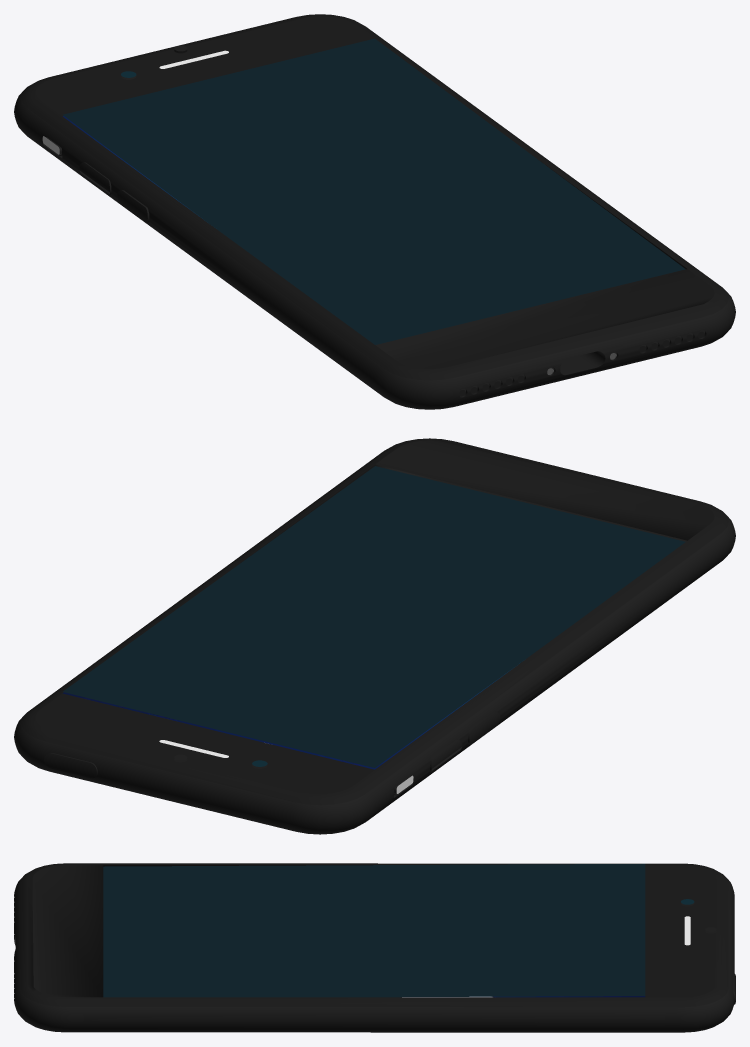
The model's file is iPhone 7-fixed.glb.
3 renders of one model, top to bottom at view 1: azimuth 30°, elevation 25°; view 2: azimuth 150°, elevation 25°; view 3: azimuth 270°, elevation 25°, orthographic. The views are drawn at different scales.
Parts seen in each view (by area): view 1: object.008, object.000; view 2: object.008, object.000, object.002; view 3: object.008, object.000, object.002.
Boxes of the visible parts, box(x1,y1,x2,y2) form: object.008: box(63, 38, 685, 344); object.000: box(14, 14, 735, 409); object.008: box(63, 466, 685, 767); object.000: box(14, 438, 735, 834); object.002: box(62, 663, 519, 769); object.008: box(103, 863, 694, 997); object.000: box(14, 863, 735, 1032); object.002: box(402, 996, 645, 997).
Bounding box in the file's own units: 0.0668 × 0.00884 × 0.1371.
Materials: 12 (1 with a texture image).
